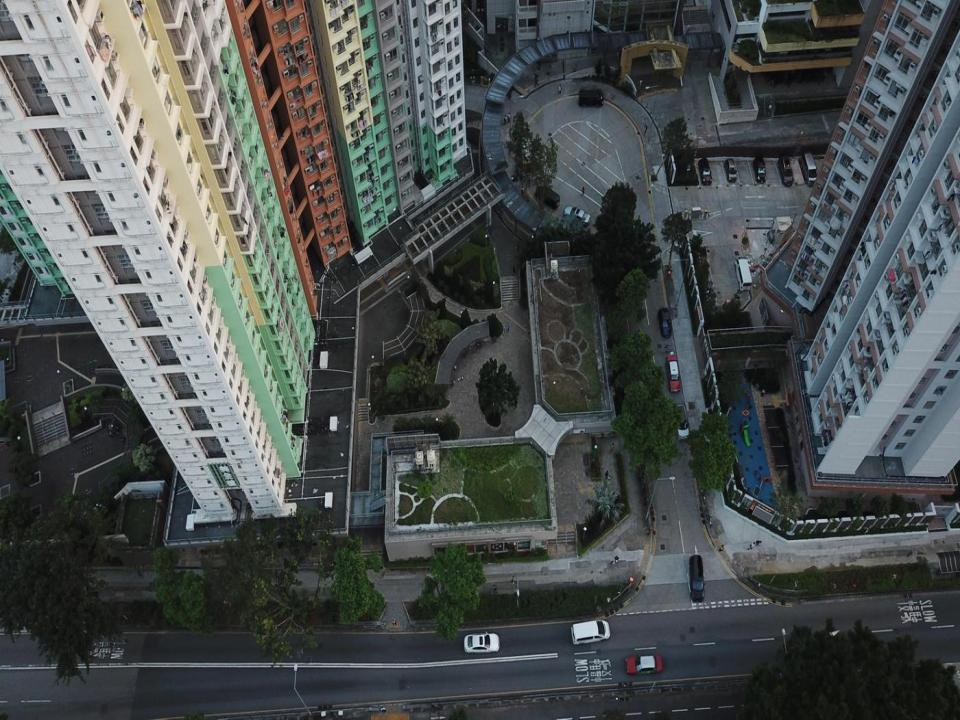car: (570, 620, 610, 645), (688, 555, 706, 602), (463, 631, 500, 652), (625, 655, 662, 674), (666, 355, 682, 394), (734, 256, 752, 290), (675, 404, 690, 441), (563, 206, 590, 226), (777, 156, 793, 186), (658, 308, 672, 337), (698, 158, 712, 186), (753, 156, 767, 183), (724, 159, 737, 183)
van: (800, 152, 818, 186), (536, 186, 560, 210), (578, 89, 603, 107)
